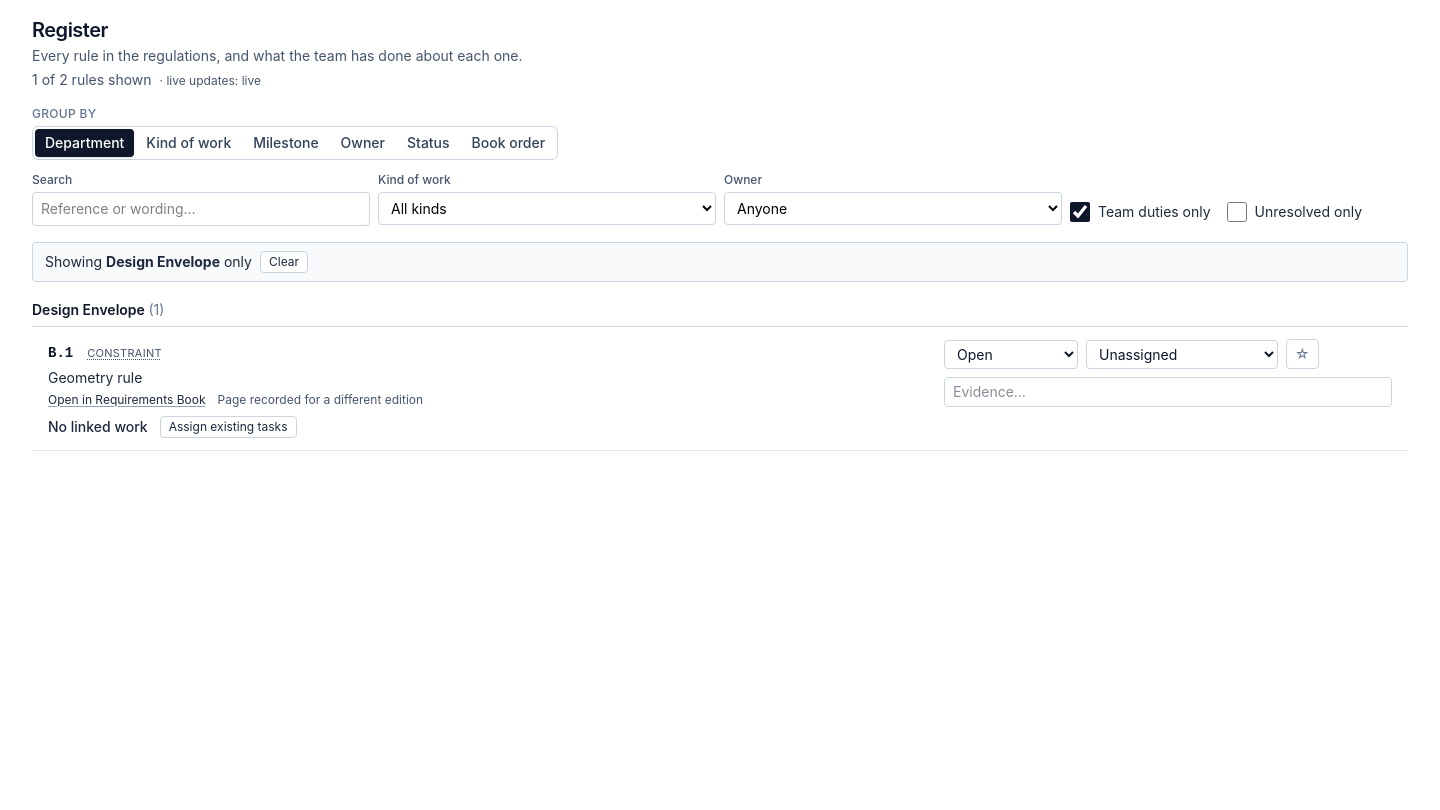
Test case: Register navigation › can clear the scope back to the whole register
Expected: the element with test id "subteam-scope" is shown, left=45, top=252, right=252, bottom=272
Click the button "Clear" at (284, 262), box left=260, top=251, right=308, bottom=273
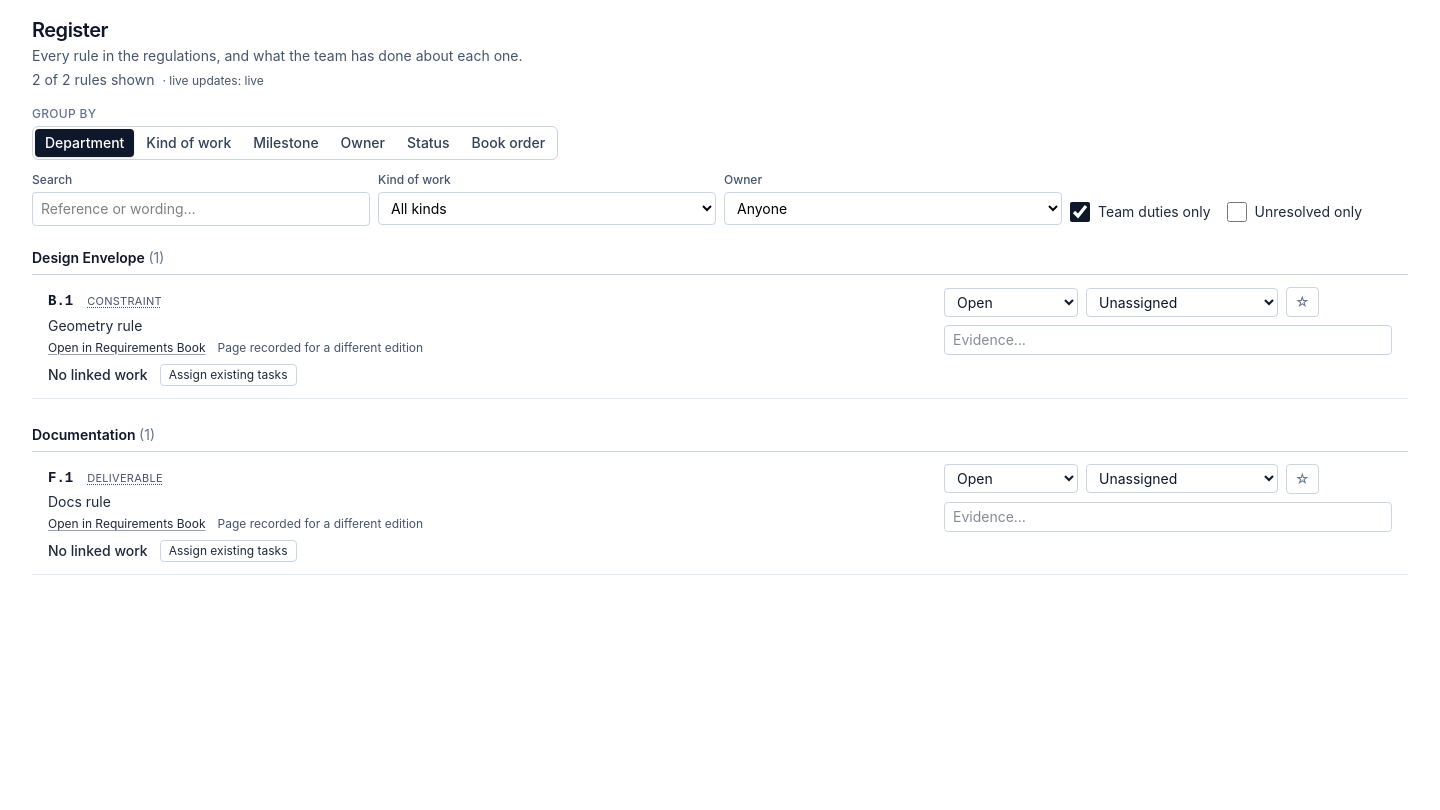
Expected: the element with test id "subteam-scope" is gone
Expected: the text "Docs rule" is shown, left=48, top=493, right=111, bottom=510
